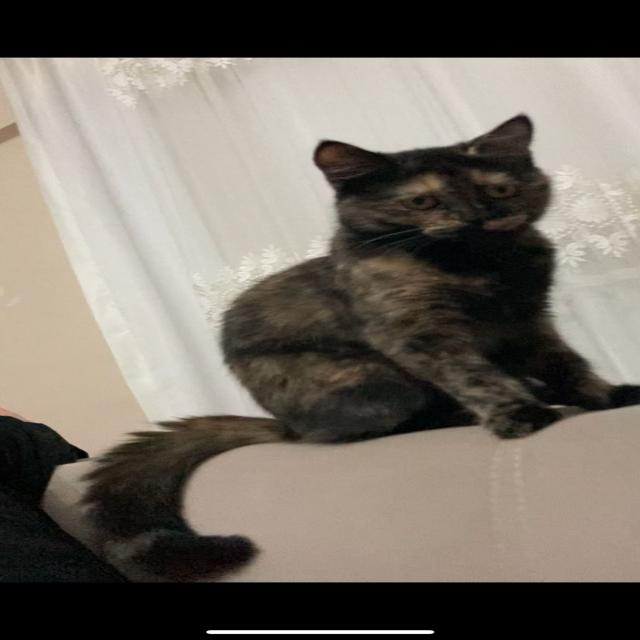authorized: (78, 112, 637, 581)
